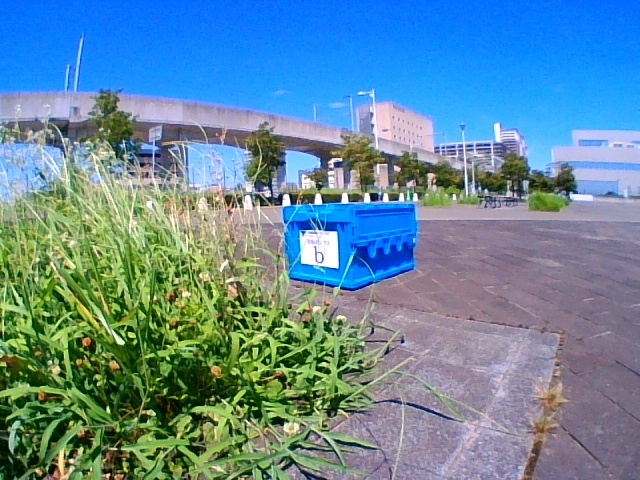blue_box: (289, 205, 413, 269)
tag_b: (301, 233, 338, 265)
